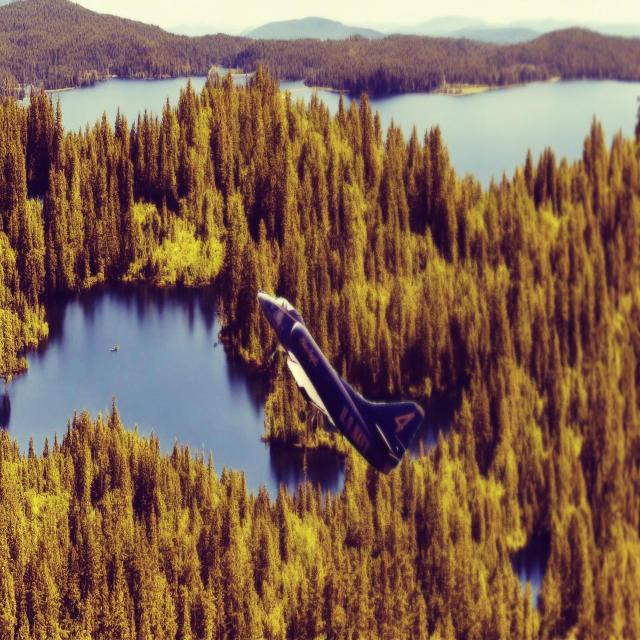airplane: (257, 289, 425, 476)
